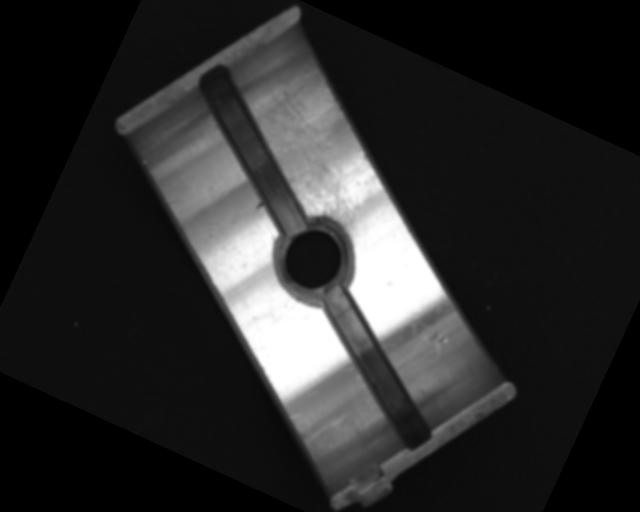bruise: (422, 327, 452, 357), (252, 198, 267, 215)
gap: (156, 60, 352, 241), (284, 284, 469, 453)
hole: (258, 206, 369, 317)
scratch: (221, 56, 416, 250)
